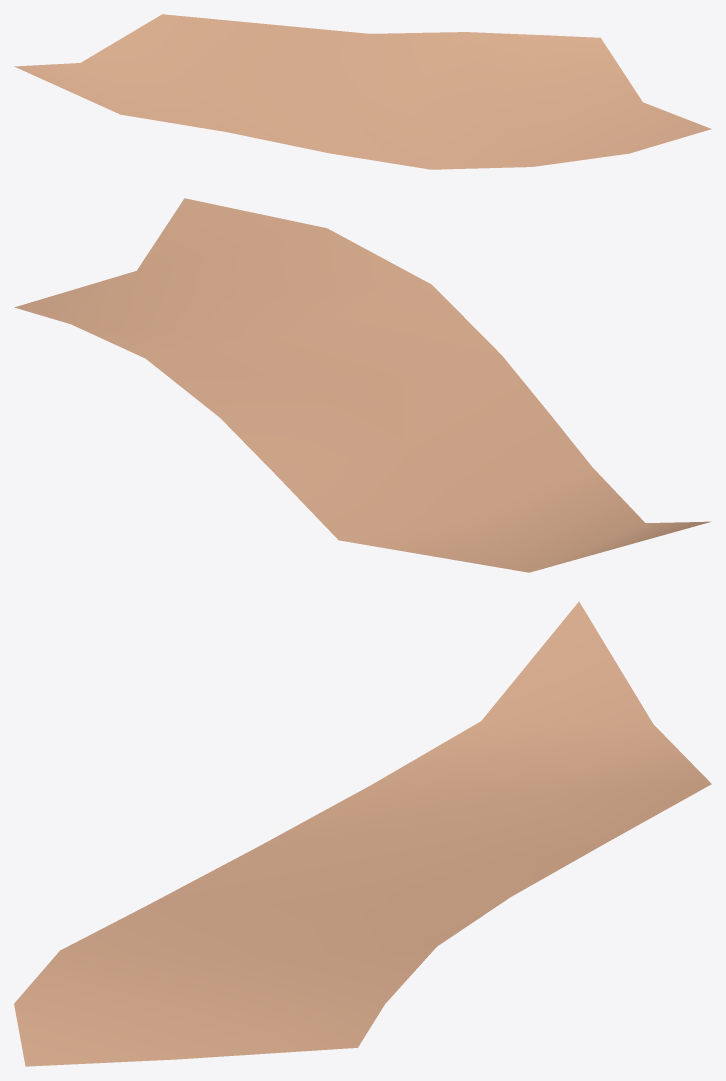
The model's file is distal-transverse-arch-of-foot-r.glb.
The picture shows the model from 3 angles, top to bottom: view 1: azimuth 30°, elevation 25°; view 2: azimuth 150°, elevation 25°; view 3: azimuth 270°, elevation 25°; orthographic projection. The views are drawn at different scales.
Visible parts, largest first — view 1: Distal transverse arch of foot.r; view 2: Distal transverse arch of foot.r; view 3: Distal transverse arch of foot.r.
Boxes of the visible parts, left/top/right/bottom form: Distal transverse arch of foot.r: left=14, top=14, right=711, bottom=169; Distal transverse arch of foot.r: left=14, top=198, right=710, bottom=572; Distal transverse arch of foot.r: left=14, top=601, right=711, bottom=1066.
Size of the model in its own units: 0.0586 by 0.00719 by 0.0452.
